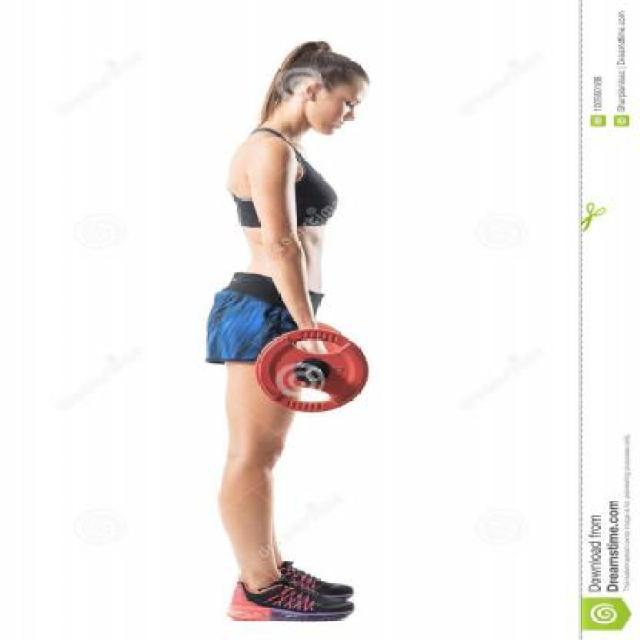barbell: (245, 325, 377, 419)
